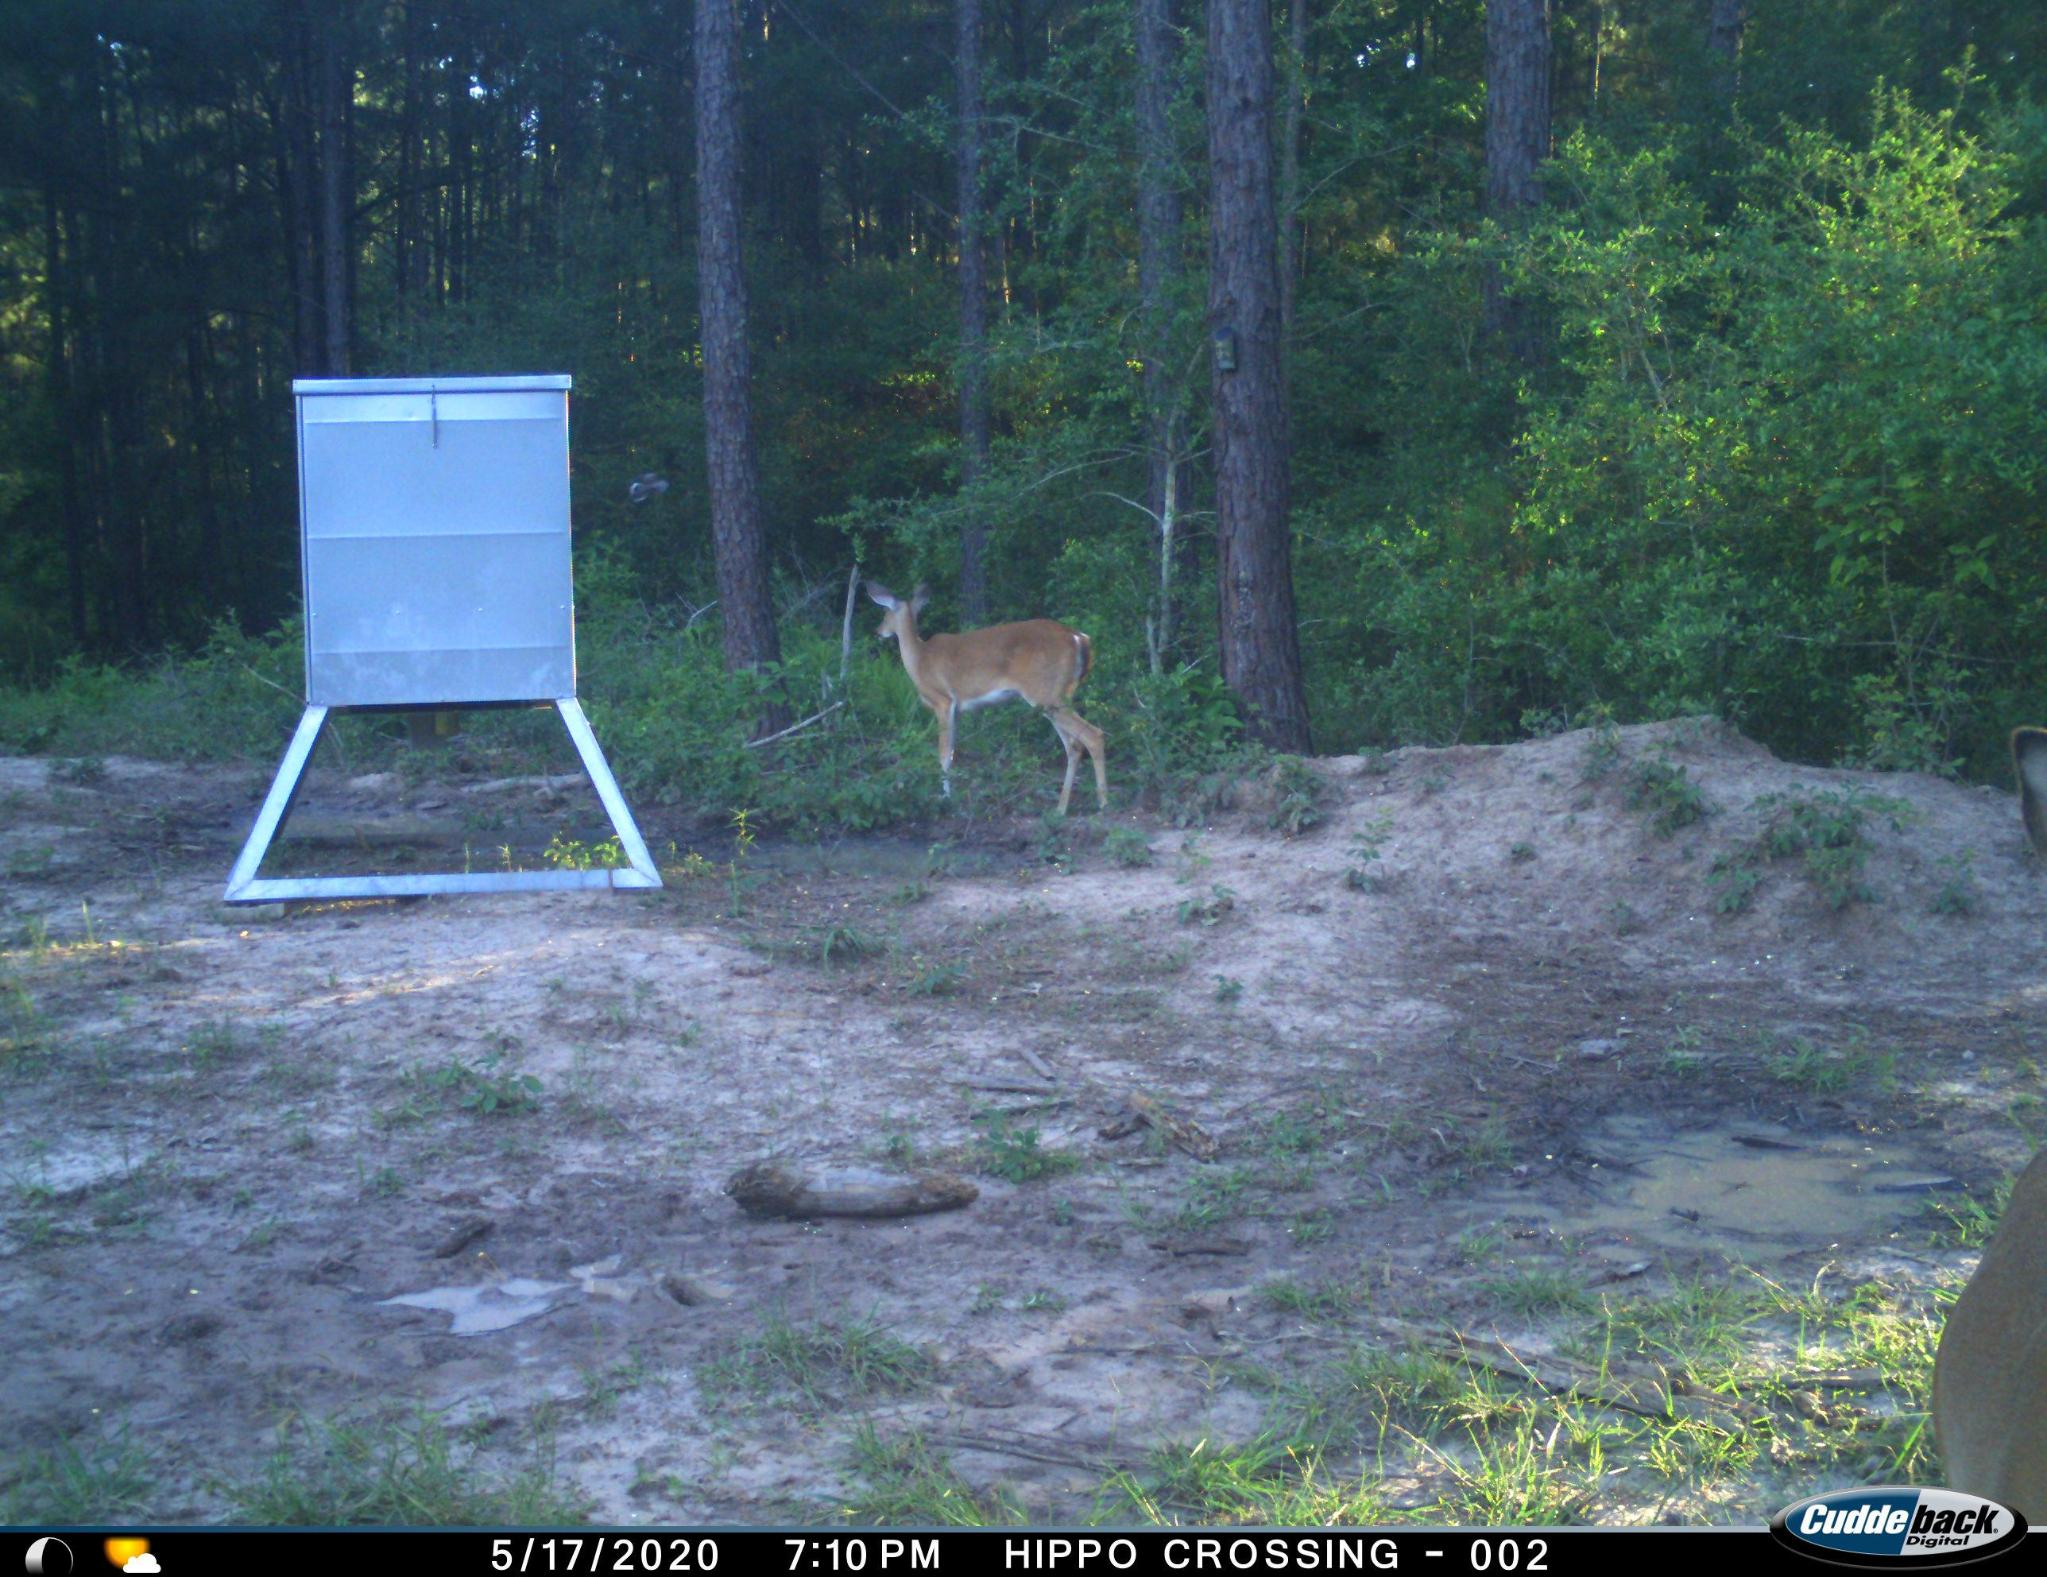Deer: (1916, 711, 2047, 1531), (853, 563, 1133, 815)
